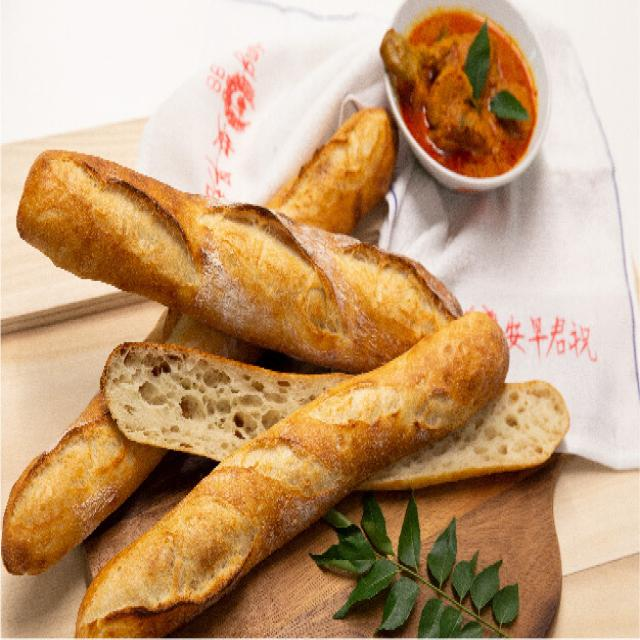Baguette: (76, 311, 508, 635), (16, 150, 460, 369), (0, 393, 166, 574), (269, 107, 397, 231), (146, 310, 261, 361)
